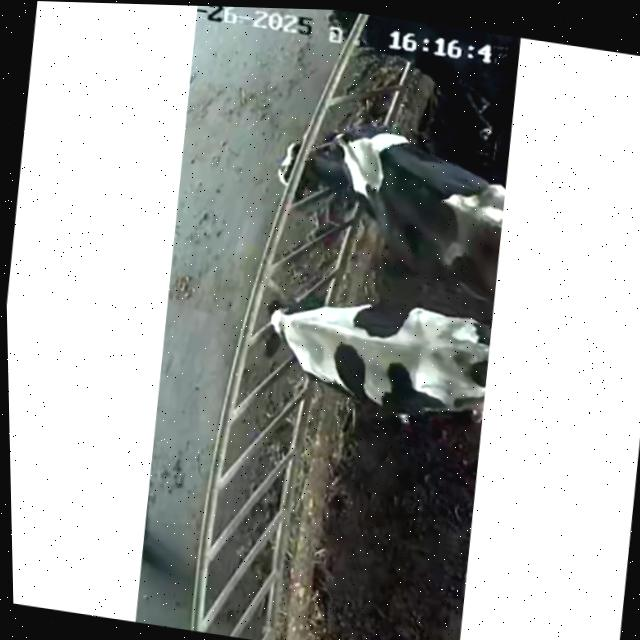eat: (223, 91, 466, 222), (197, 264, 384, 406), (293, 9, 499, 86)
